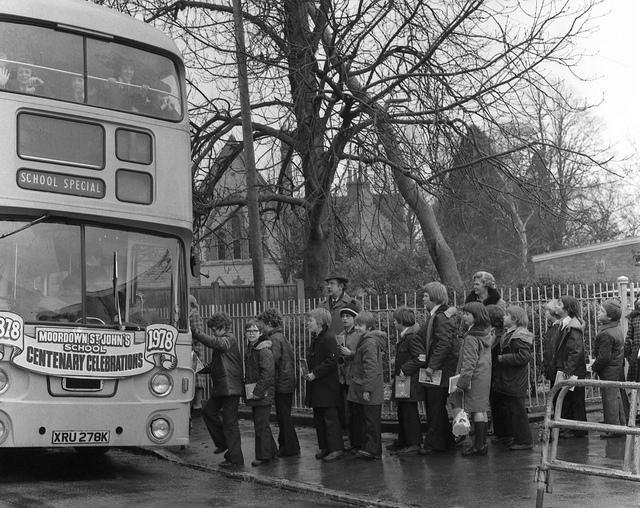bus: (0, 2, 202, 446)
